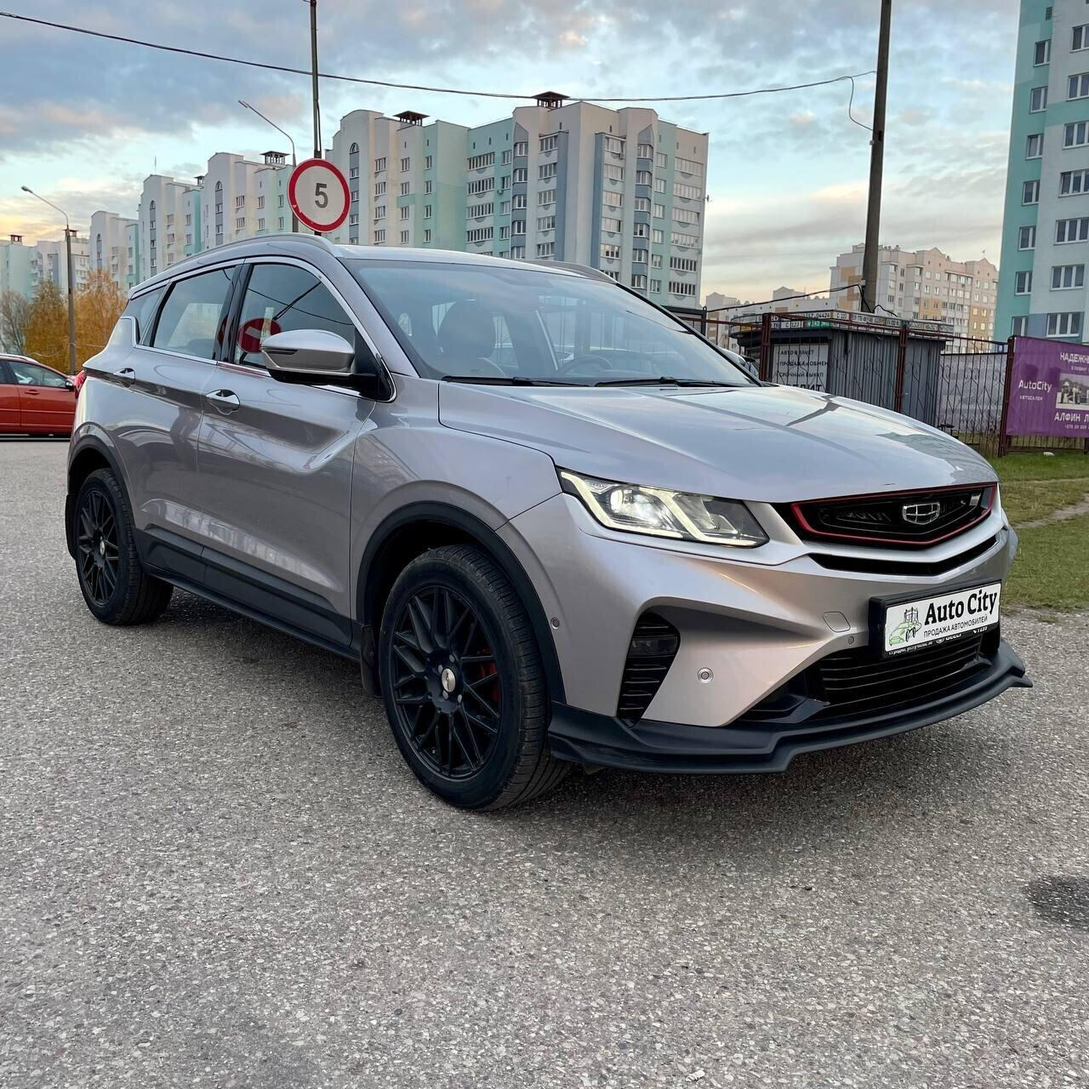Coolray_2019-2023: (68, 228, 1027, 838)
